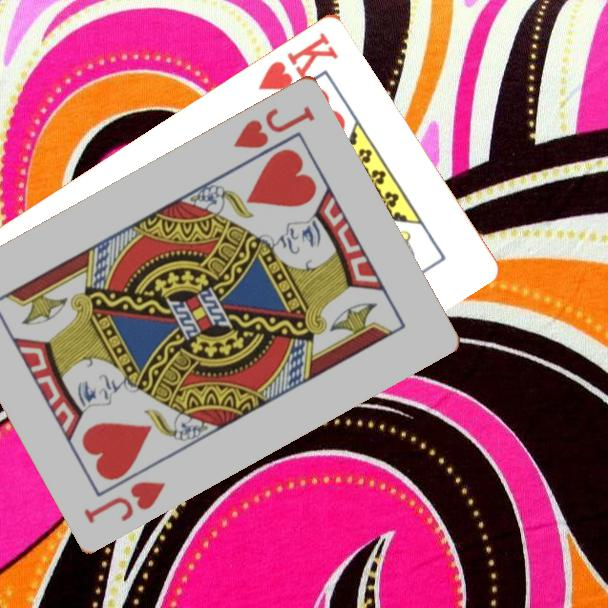h11: (229, 101, 318, 151), (80, 476, 169, 526)
h13: (254, 28, 342, 93)
